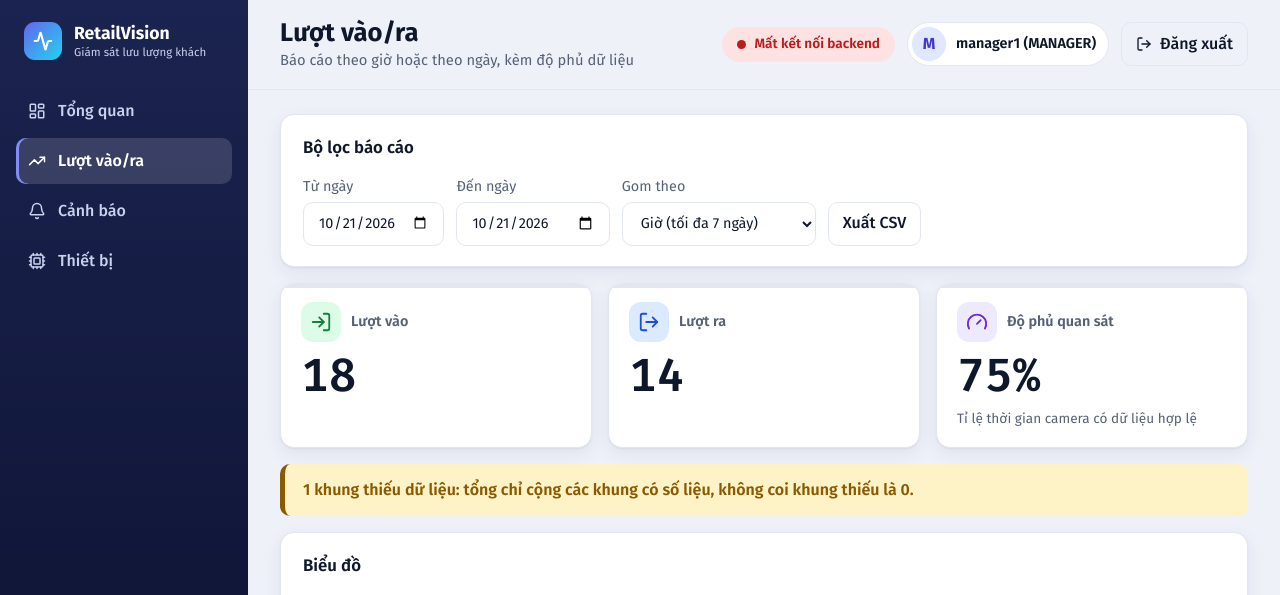
Test case: trang Lượt vào/ra › khoảng quá dài: báo ngay trên giao diện, không gọi API và khóa nút CSV
Type "2020-01-01" into the date field labelled "Từ ngày" at (374, 224), box [303,202,444,246]
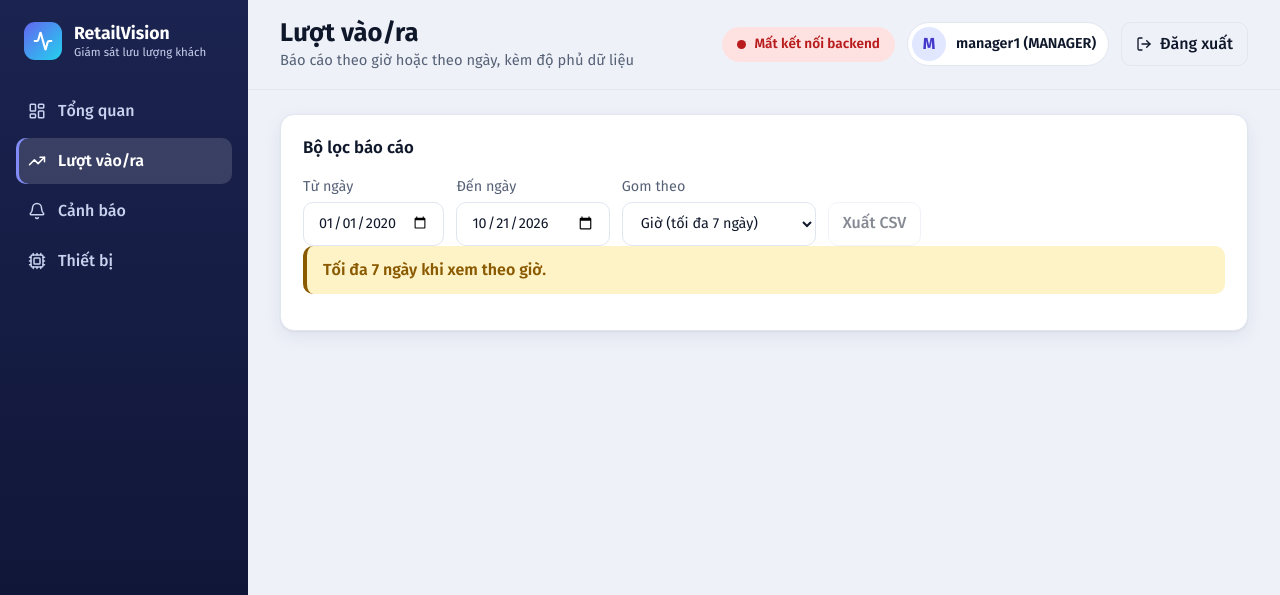
Check: the message "Tối đa 7 ngày khi xem theo giờ." is shown, box [303,246,1225,294]
